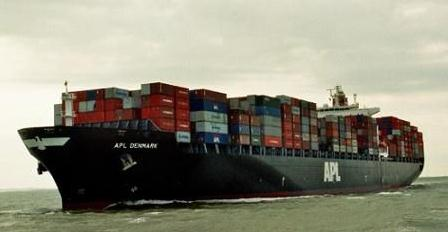container: (5, 66, 447, 214)
